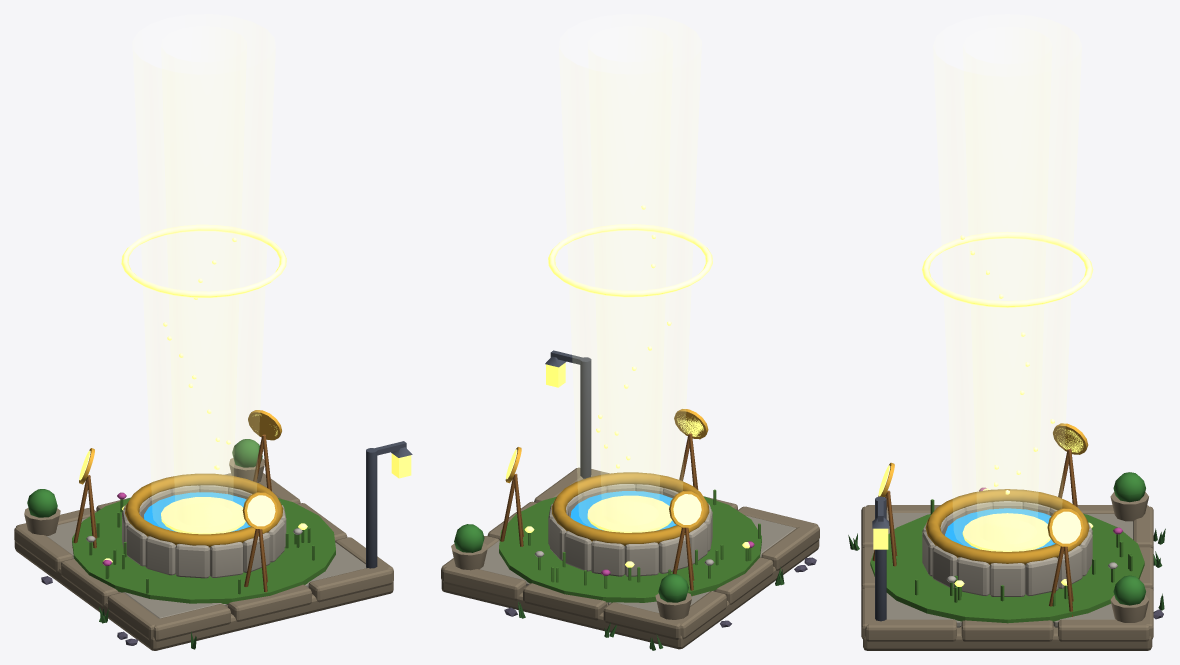
Rendered from light_well.glb.
3 views of the same model, side by side, from view 1: azimuth 30°, elevation 25°; view 2: azimuth 150°, elevation 25°; view 3: azimuth 270°, elevation 25° (orthographic). The views are drawn at different scales.
Visible parts, largest first — view 1: t0_sunbeam, t0_stone_warm, t0_grass, t0_marble, t0_gold, t0_glow_gold, halo_t3_spinY20_glow_gold, t1_iron, t0_bronze, t2_leaf, t2_stone_warm, t0_water (+2 smaller); view 2: t0_sunbeam, t0_stone_warm, t0_grass, t0_marble, t0_gold, t0_glow_gold, halo_t3_spinY20_glow_gold, t1_iron, t0_bronze, t2_leaf, t2_stone_warm, t0_water (+2 smaller); view 3: t0_sunbeam, t0_stone_warm, t0_grass, t0_marble, t0_gold, t0_glow_gold, halo_t3_spinY20_glow_gold, t2_leaf, t0_bronze, t2_stone_warm, t1_iron, t0_water (+2 smaller).
Boxes of the visible parts, x1,y1,x2,y2 form: t0_sunbeam: (133, 14, 275, 533); t0_stone_warm: (14, 473, 393, 650); t0_grass: (72, 497, 335, 603); t0_marble: (47, 485, 366, 618); t0_gold: (125, 473, 283, 547); t0_glow_gold: (103, 497, 307, 562); halo_t3_spinY20_glow_gold: (121, 224, 286, 297); t1_iron: (366, 441, 412, 568); t0_bronze: (72, 434, 271, 592); t2_leaf: (27, 439, 262, 517); t2_stone_warm: (24, 458, 264, 535); t0_water: (144, 492, 250, 531); t0_sunbeam: (559, 14, 701, 532); t0_stone_warm: (441, 467, 819, 649); t0_grass: (499, 489, 761, 602); t0_marble: (480, 478, 795, 612); t0_gold: (551, 472, 709, 545); t0_glow_gold: (524, 495, 749, 567); halo_t3_spinY20_glow_gold: (548, 224, 712, 297); t1_iron: (545, 350, 591, 478); t0_bronze: (500, 433, 698, 595); t2_leaf: (454, 524, 688, 602); t2_stone_warm: (451, 543, 691, 619); t0_water: (570, 491, 676, 530); t0_sunbeam: (933, 14, 1081, 551); t0_stone_warm: (861, 505, 1153, 650); t0_grass: (870, 499, 1144, 623); t0_marble: (886, 501, 1133, 627); t0_gold: (925, 489, 1089, 564); t0_glow_gold: (954, 488, 1093, 586); halo_t3_spinY20_glow_gold: (922, 231, 1093, 307); t2_leaf: (1113, 472, 1145, 605); t0_bronze: (872, 448, 1077, 616); t2_stone_warm: (1110, 492, 1148, 622); t1_iron: (872, 496, 889, 621); t0_water: (945, 508, 1055, 549).
Size of the model in its own units: 2.2 by 4.06 by 2.13.
